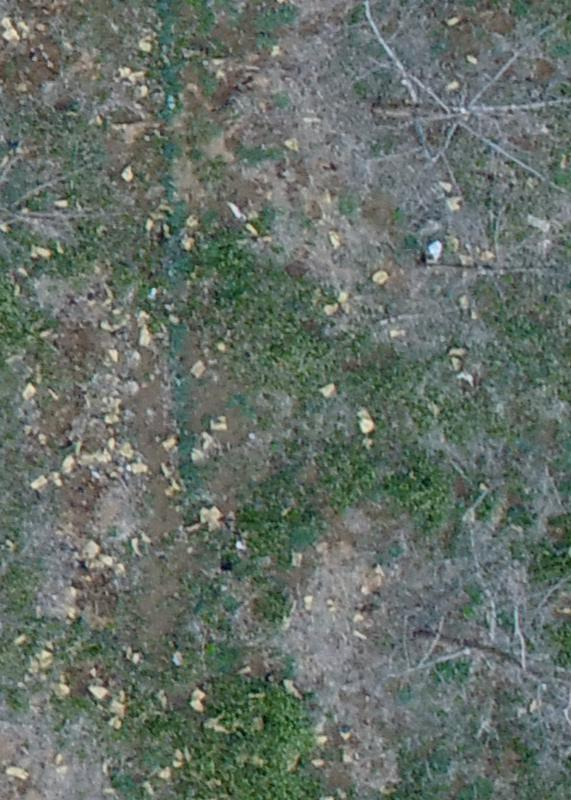apple: (340, 10, 561, 234), (379, 572, 561, 755), (10, 134, 119, 265)
